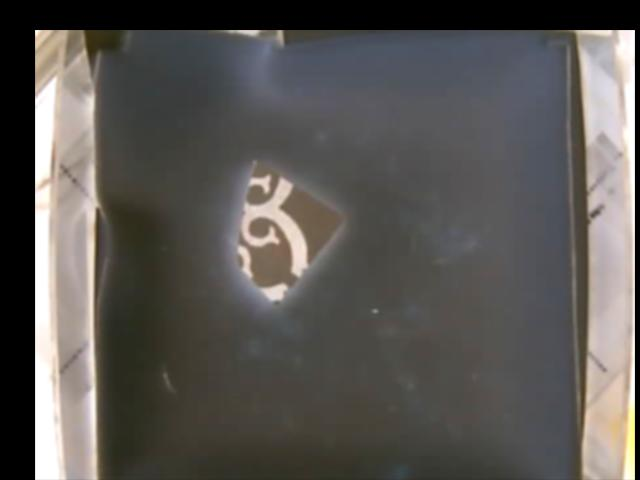China: (239, 159, 337, 306)
